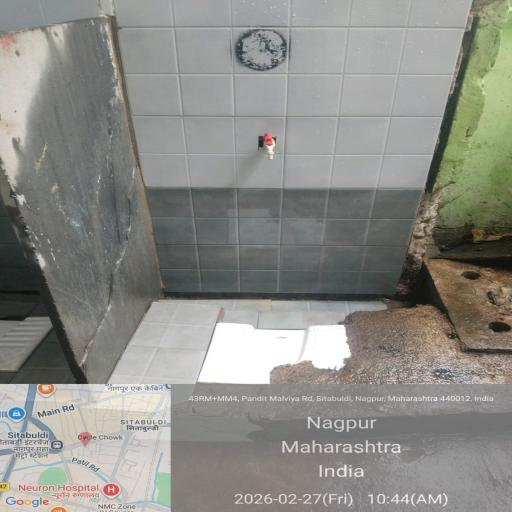clean_floor: (58, 24, 400, 263)
clean_indian: (195, 312, 364, 395)
partial_dirty_floor: (116, 346, 500, 512)
